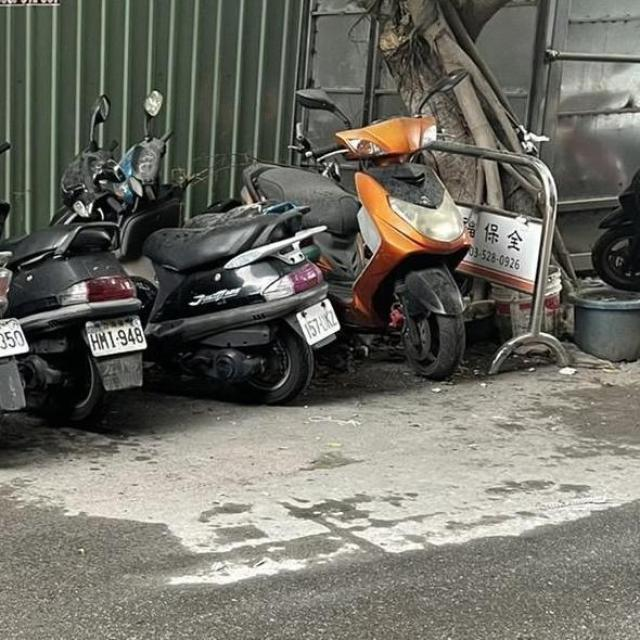W: (77, 308, 153, 358), (289, 287, 348, 346), (0, 314, 33, 366)
